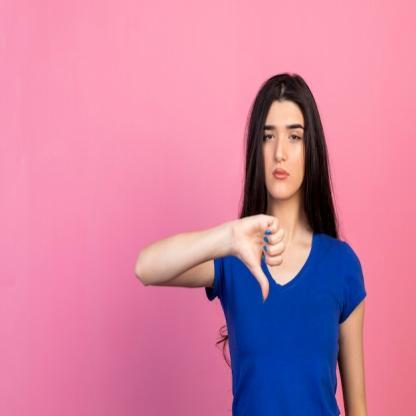thumb_down: (236, 210, 286, 304)
